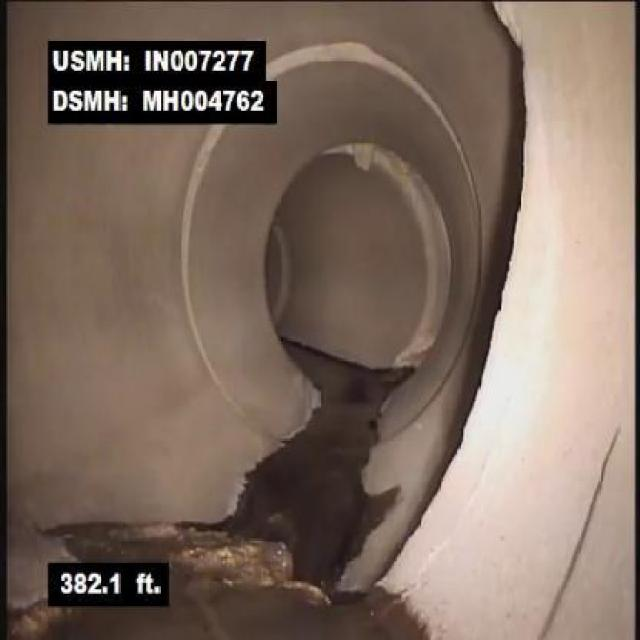Debris: (177, 528, 338, 609)
Joint offset: (266, 36, 405, 76)
